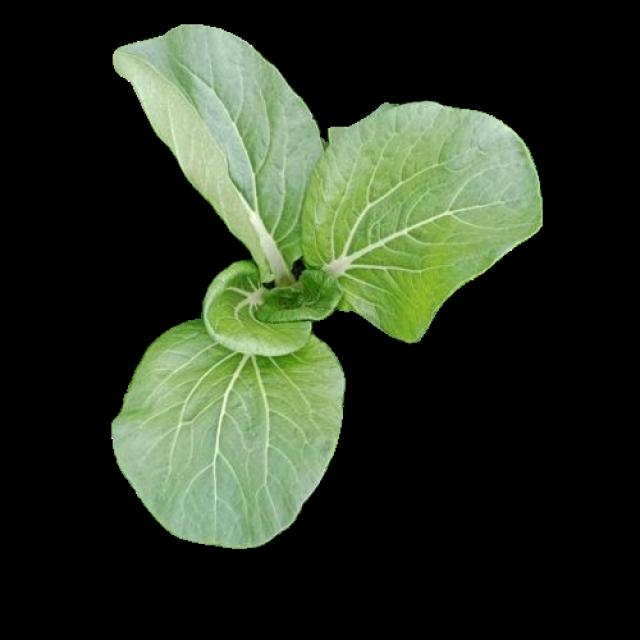healthy: (110, 18, 542, 541)
mature: (113, 20, 544, 544)
